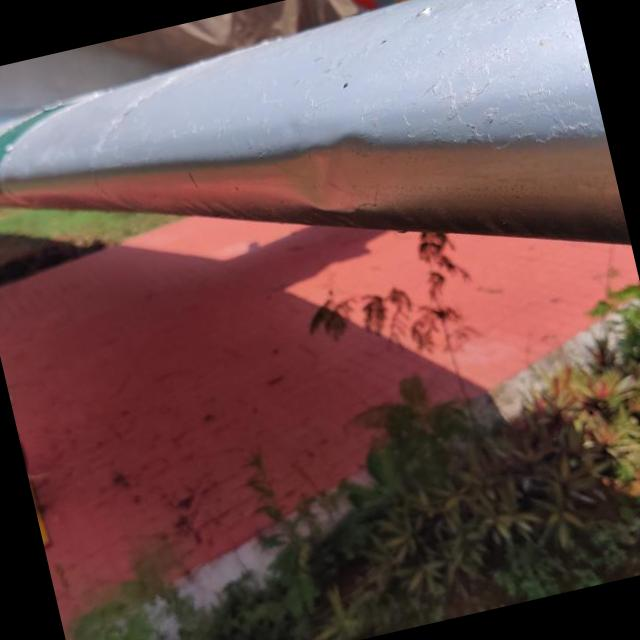Dent: (274, 138, 406, 228)
